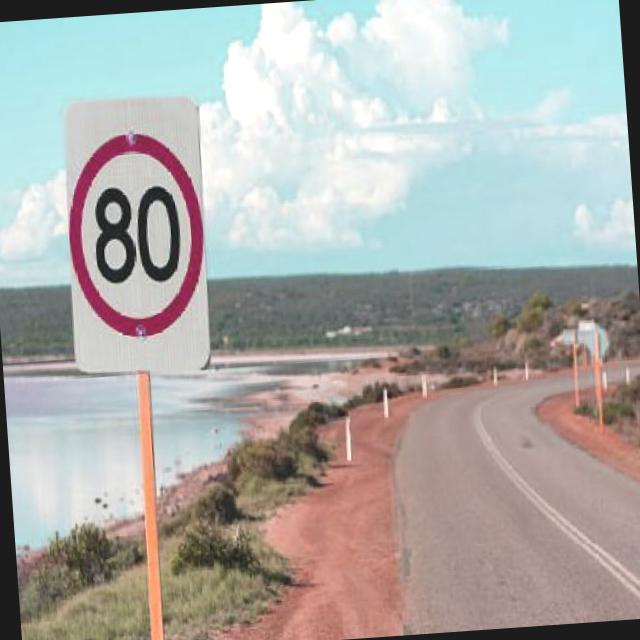Ograniczenie predkosci do 80: (61, 121, 212, 341)
